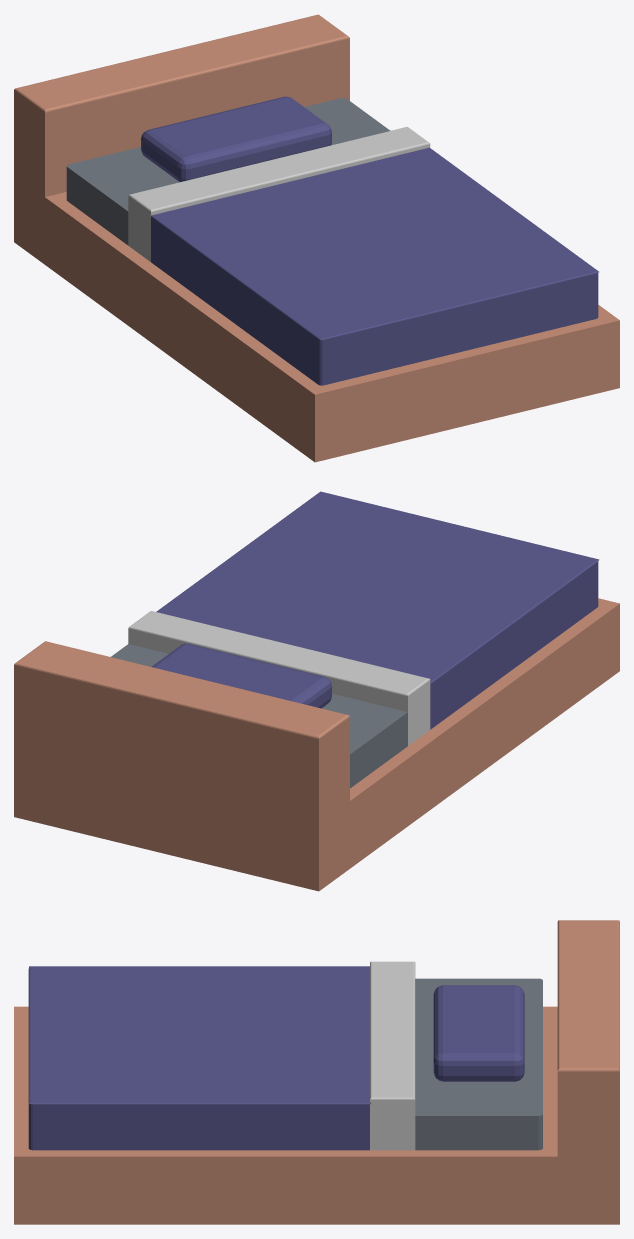
The model's file is sänky.fbx.
3 views of the same model, one above another, from view 1: azimuth 30°, elevation 25°; view 2: azimuth 150°, elevation 25°; view 3: azimuth 270°, elevation 25° (orthographic).
Visible parts, largest first — view 1: Sänky; view 2: Sänky; view 3: Sänky.
Boxes of the visible parts, x1,y1,x2,y2 form: Sänky: [14, 14, 619, 462]; Sänky: [14, 491, 619, 891]; Sänky: [14, 920, 619, 1224].
Size of the model in its own units: 141 by 68.36 by 242.
